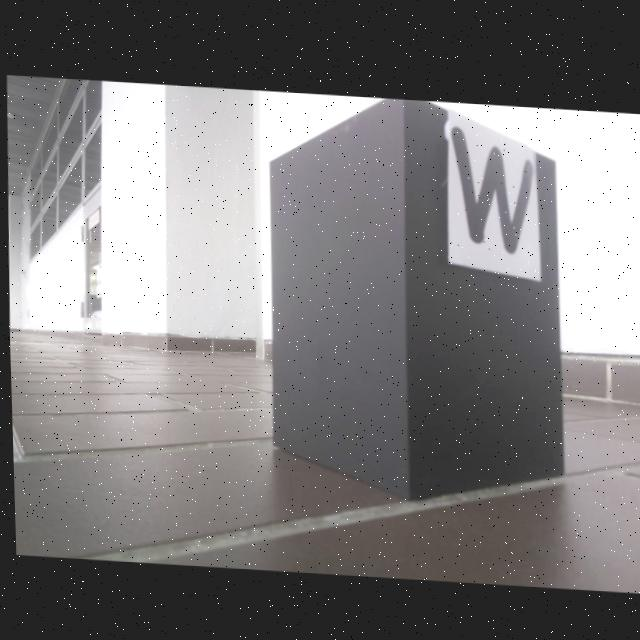W: (449, 120, 534, 251)
